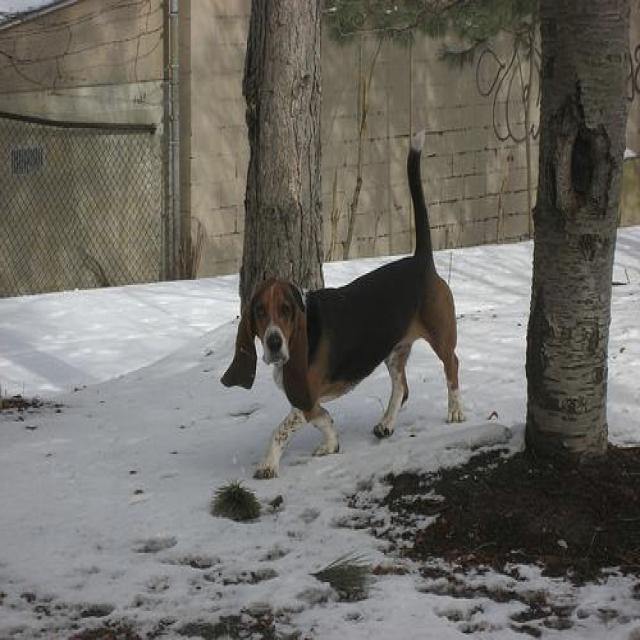basset: (217, 126, 468, 482)
